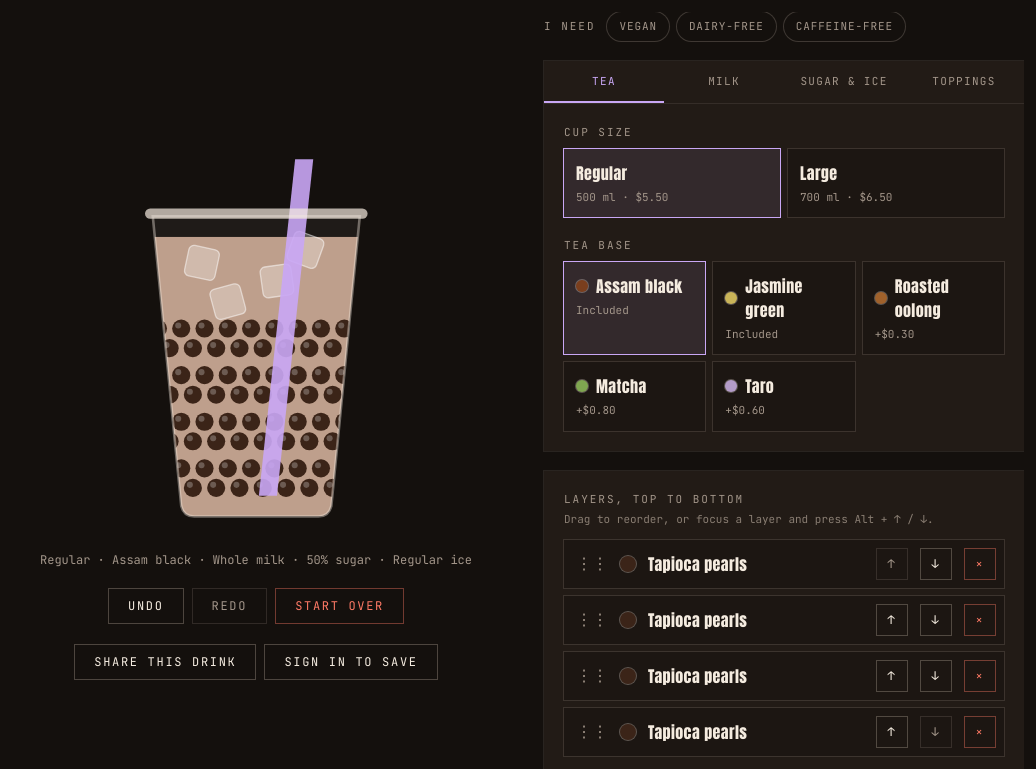
Test: <BuilderPage /> › stops adding toppings once the cup is full
Click the tab "Toppings": (964, 82) [904,60,1024,103]
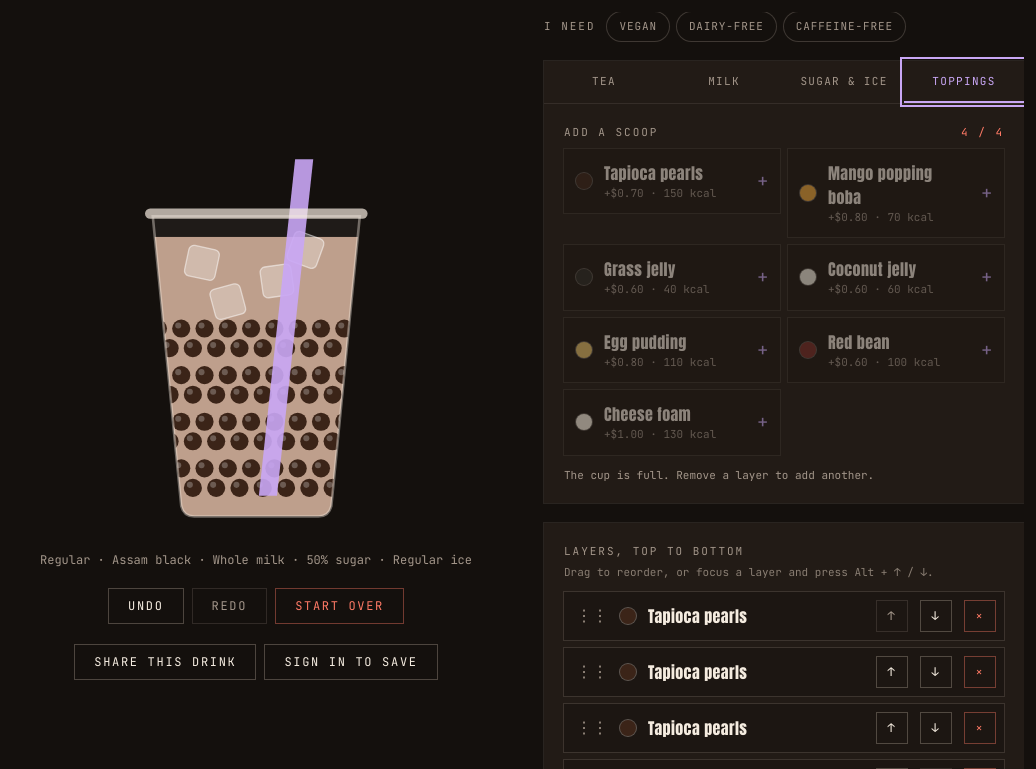
Result: the button with aria-label "Add Red bean" is disabled at [788,318,1004,382]
Result: the text "The cup is full. Remove a layer to add another." is shown at [564,468,874,482]
